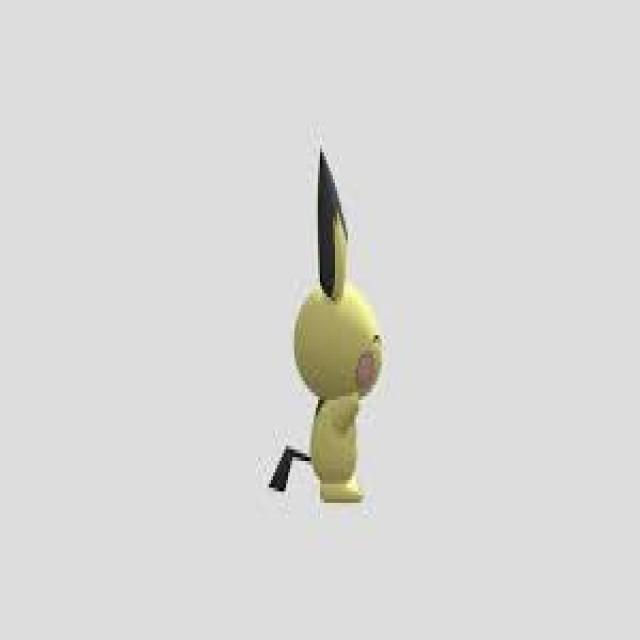pichu: (246, 118, 422, 514)
